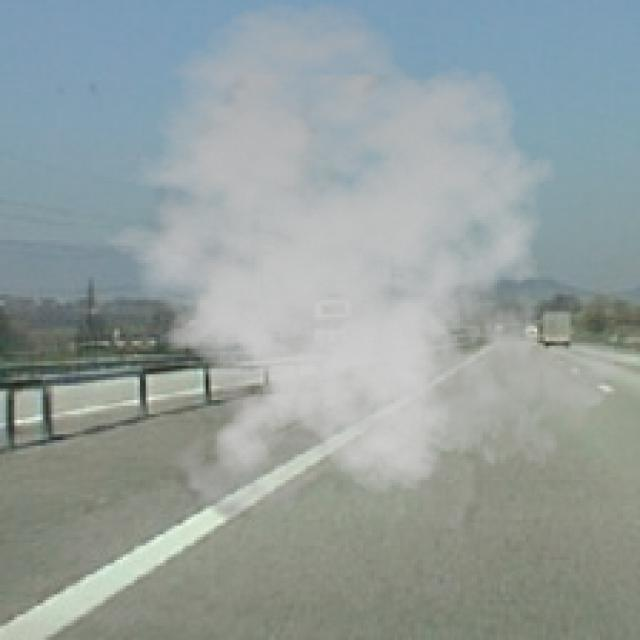smoke: (83, 0, 614, 529)
